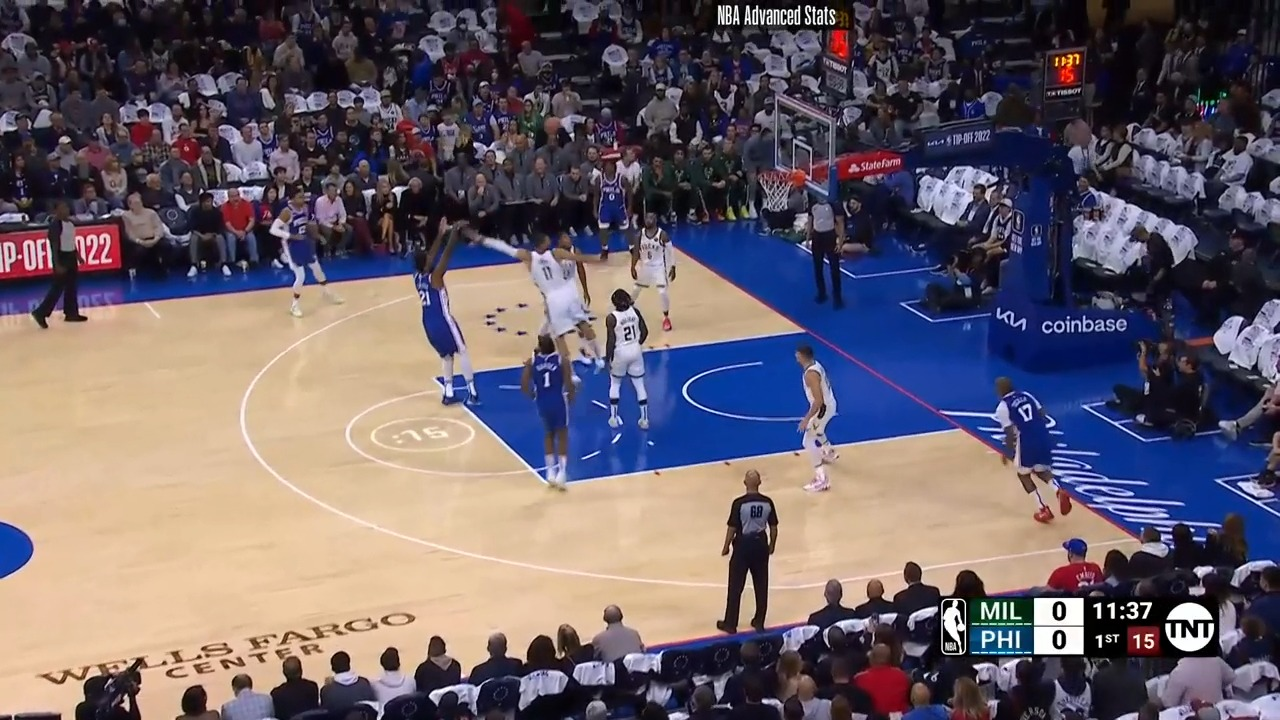net: (752, 164, 811, 213)
player: (461, 221, 609, 382), (411, 214, 479, 412), (985, 375, 1070, 530), (523, 327, 581, 495), (592, 288, 655, 435), (270, 188, 337, 324), (784, 340, 842, 497), (624, 206, 680, 333), (589, 156, 640, 266), (552, 231, 592, 308)
referee: (713, 470, 780, 639), (27, 199, 86, 339), (803, 187, 850, 314)
